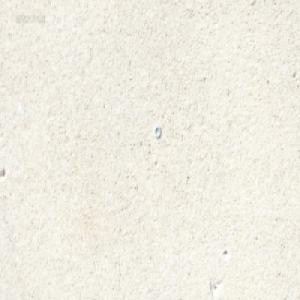Washer: (153, 124, 161, 139)
